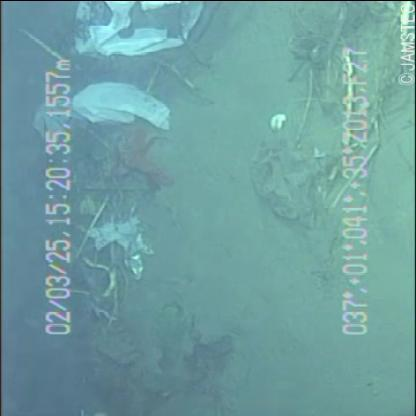Rác: (33, 82, 184, 154), (62, 0, 218, 68), (67, 200, 165, 284)
